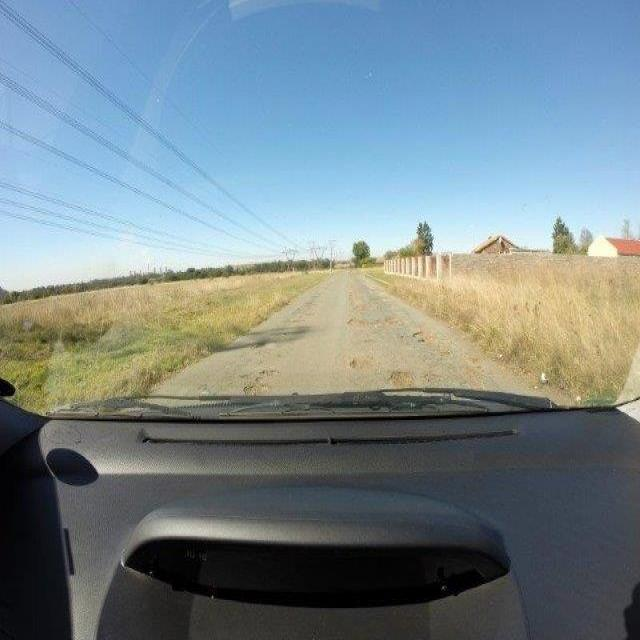lubang: (235, 364, 285, 394), (413, 328, 450, 357), (346, 315, 403, 330), (346, 351, 376, 372), (386, 368, 415, 387), (420, 370, 446, 386)
